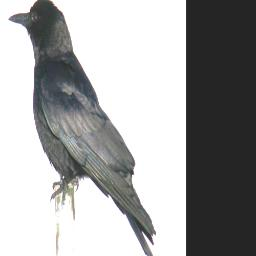Crow: (6, 0, 157, 256)
